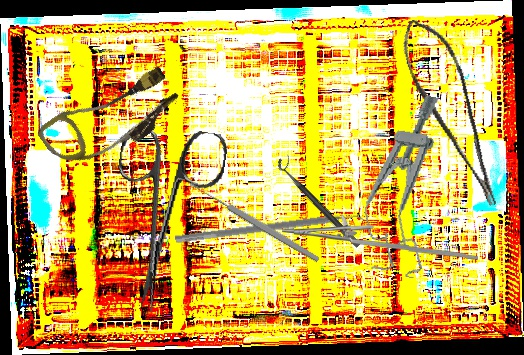Cannula: (34, 51, 188, 187)
Fixation Ring: (273, 152, 369, 249)
Iris Scissors: (96, 119, 230, 320)
Micro Scissor: (393, 10, 504, 218)
Needle Holder: (281, 213, 479, 261)
Spatula Surgical: (174, 208, 369, 252)
Speculum: (354, 88, 452, 280)
Surgical Spoon: (188, 179, 321, 264)
